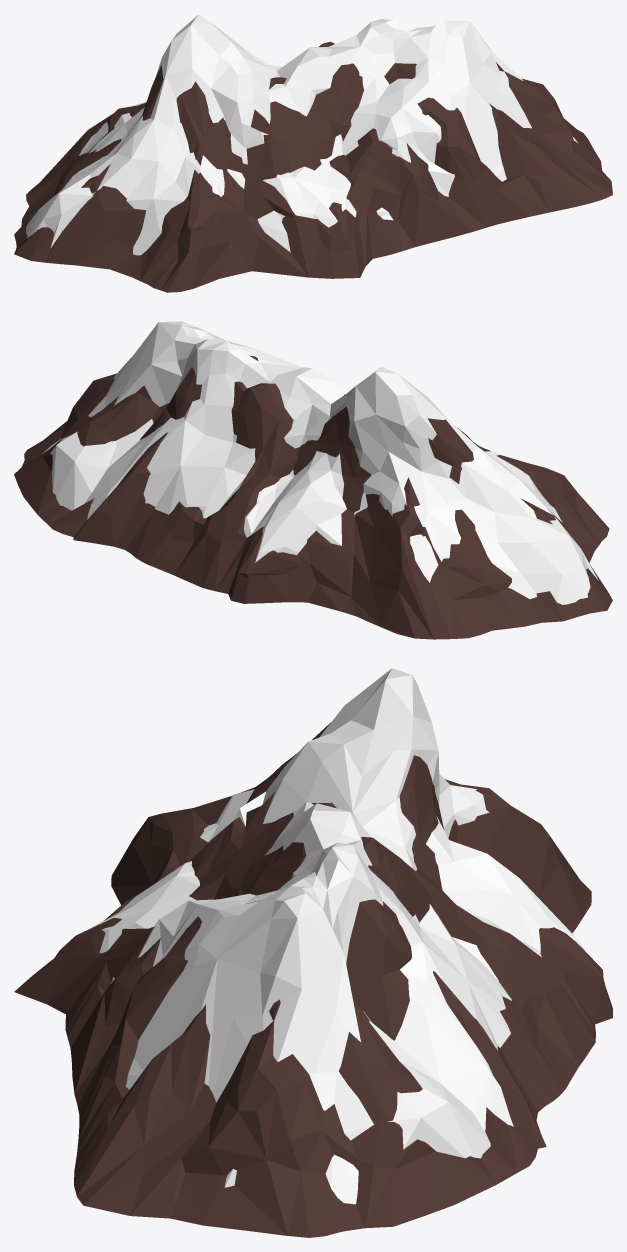
The model's file is snow_mountain_002.fbx.
The picture shows the model from 3 angles, top to bottom: view 1: azimuth 30°, elevation 25°; view 2: azimuth 150°, elevation 25°; view 3: azimuth 270°, elevation 25°; orthographic projection. The views are drawn at different scales.
Parts seen in each view (by area): view 1: snow_mountain_002; view 2: snow_mountain_002; view 3: snow_mountain_002.
Part boxes in pixels (x1,y1,x2,y2): snow_mountain_002: (14, 14, 612, 292); snow_mountain_002: (14, 321, 612, 639); snow_mountain_002: (14, 668, 612, 1237).
Size of the model in its own units: 12815 by 7562 by 4022.
